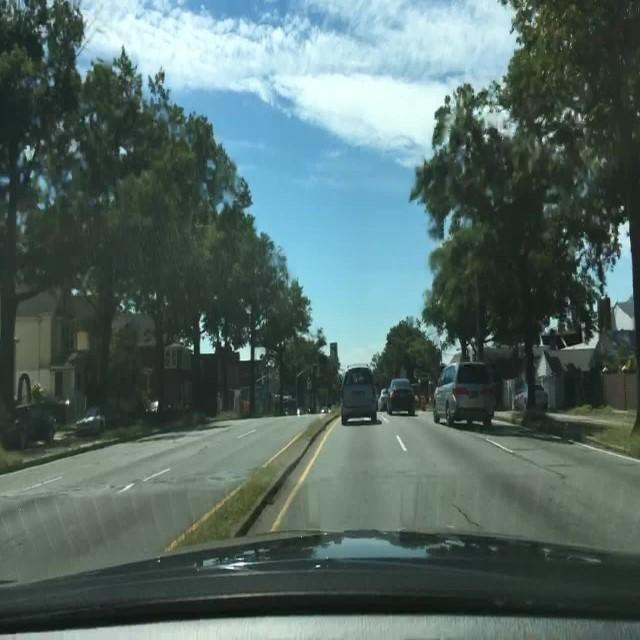normal: (323, 344, 520, 441)
